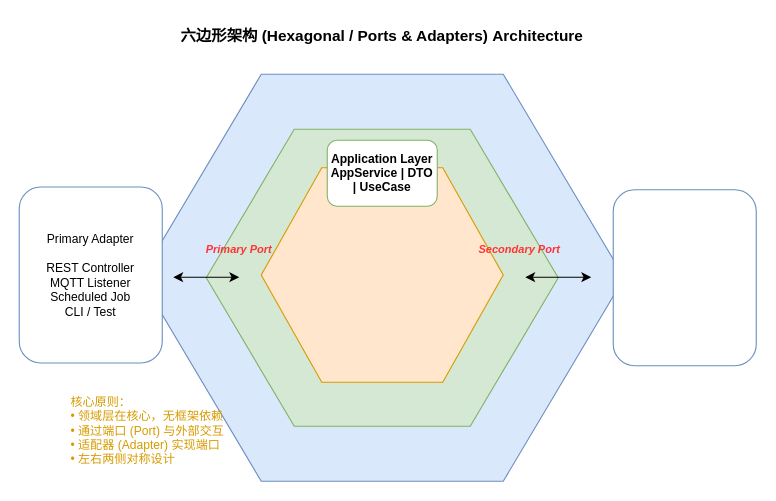
Image size: 776x501. Some labels were removed from this diagram. The shapes that lost their labels are listed below. From the top down, each one's box as (x1, y1, x2, y2) in pixels, then its label:
(260, 167, 503, 382): Domain Core Entity | ValueObject Aggregate | DomainEvent
(612, 189, 756, 366): Secondary Adapter Database External API Message Queue File System
